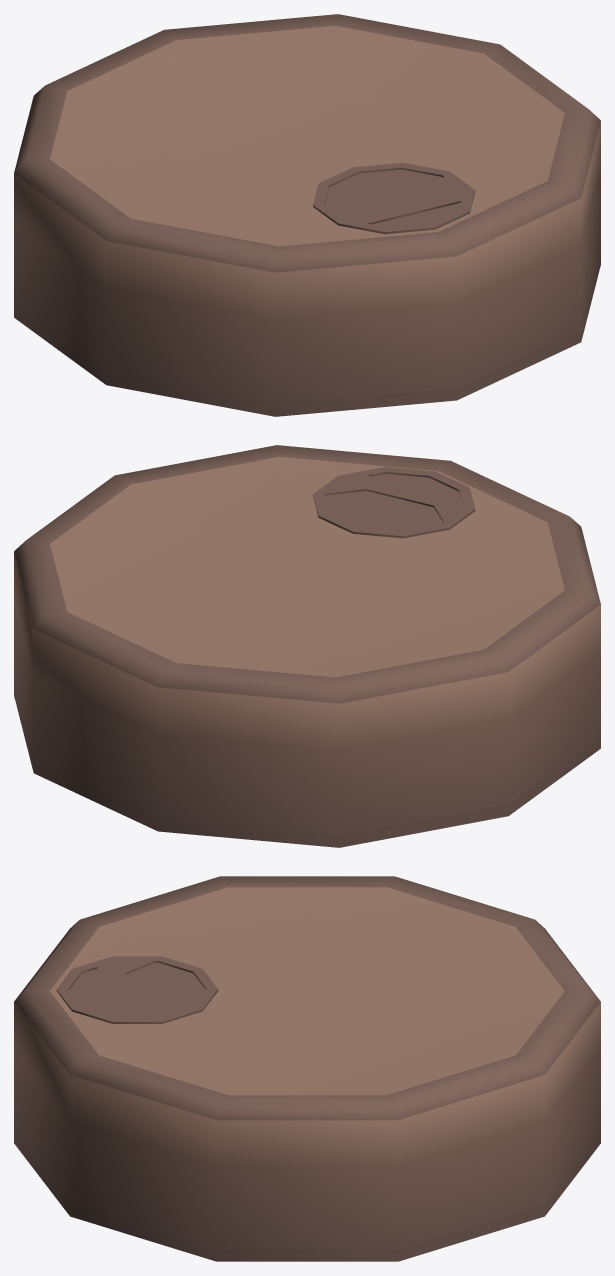
Rendered from can_food_small_brown.fbx.
3 views of the same model, one above another, from view 1: azimuth 30°, elevation 25°; view 2: azimuth 150°, elevation 25°; view 3: azimuth 270°, elevation 25° (orthographic).
Visible parts, largest first — view 1: can_food_small_brown; view 2: can_food_small_brown; view 3: can_food_small_brown.
Part boxes in pixels (<box>): can_food_small_brown: <box>14,14,600,416</box>; can_food_small_brown: <box>14,445,600,847</box>; can_food_small_brown: <box>14,876,600,1261</box>.
Size of the model in its own units: 104 by 31.53 by 109.
